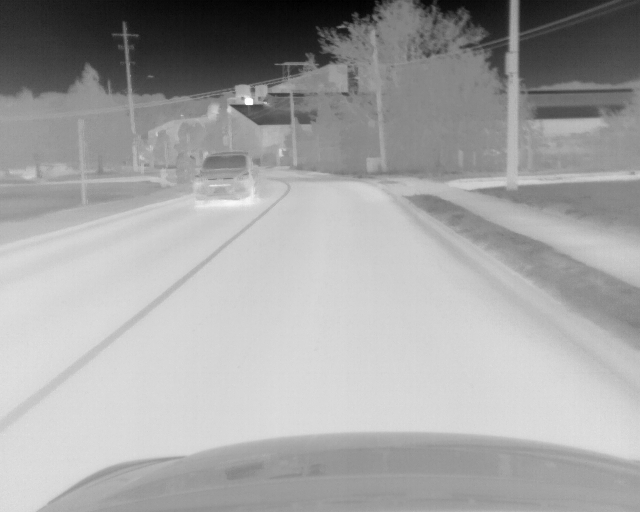car: (191, 151, 261, 207)
